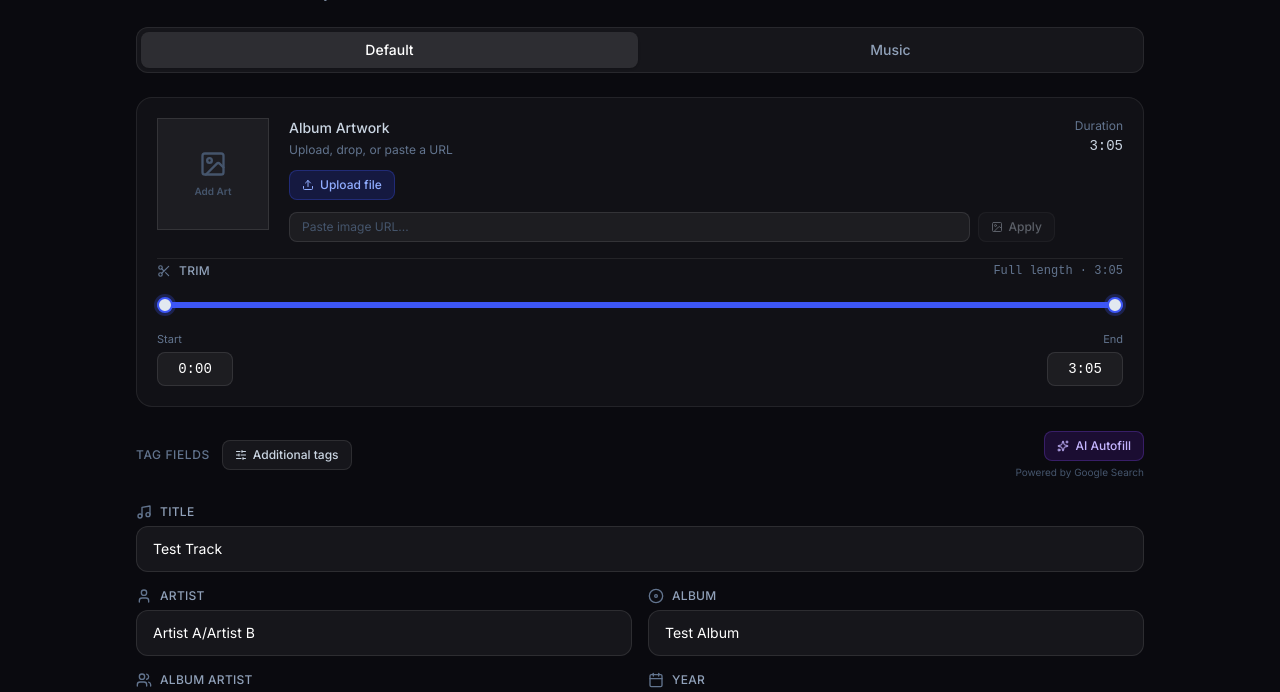
Test case: TagEditor rendering › replaces only the matching artist when adding a mapping for a multi-artist value
Click the button "music".
click(890, 50)  # box [642,32,1139,68]
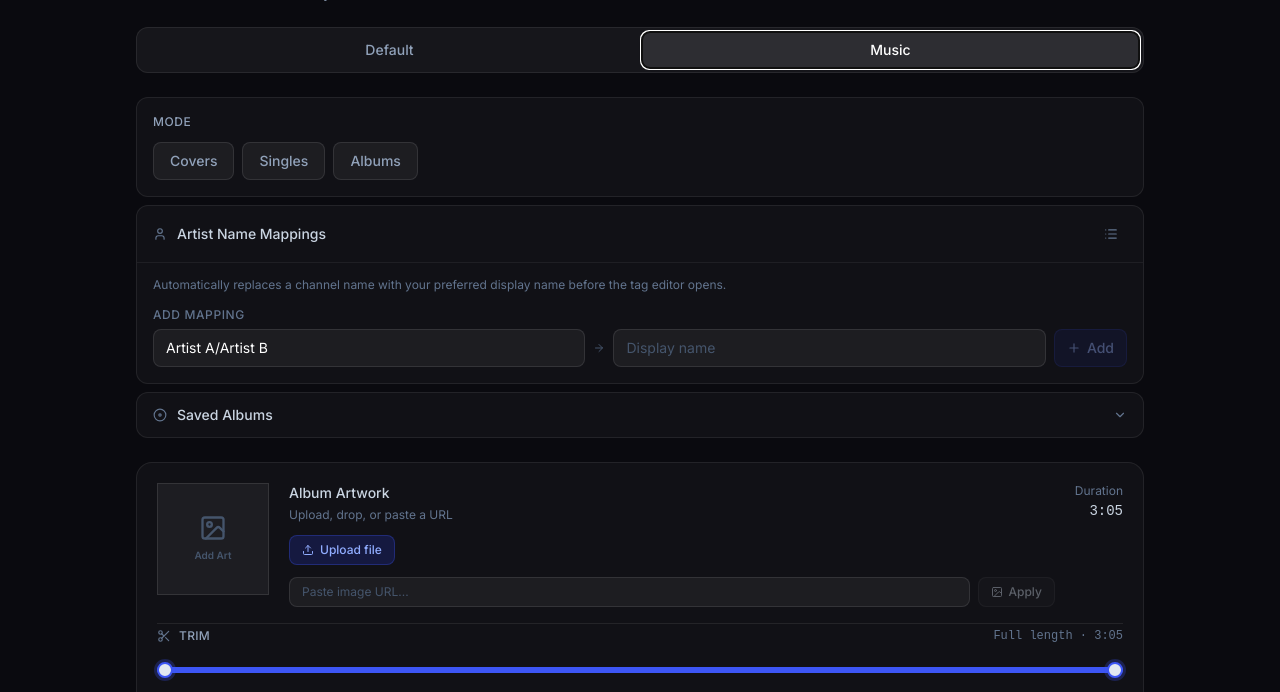
Set in one change: clearing first would let the prefill effect refill the original artist.
Replace the text in the field with placeholder "Channel name (exact)" with "Artist B" at (369,348), box [153,328,585,366]
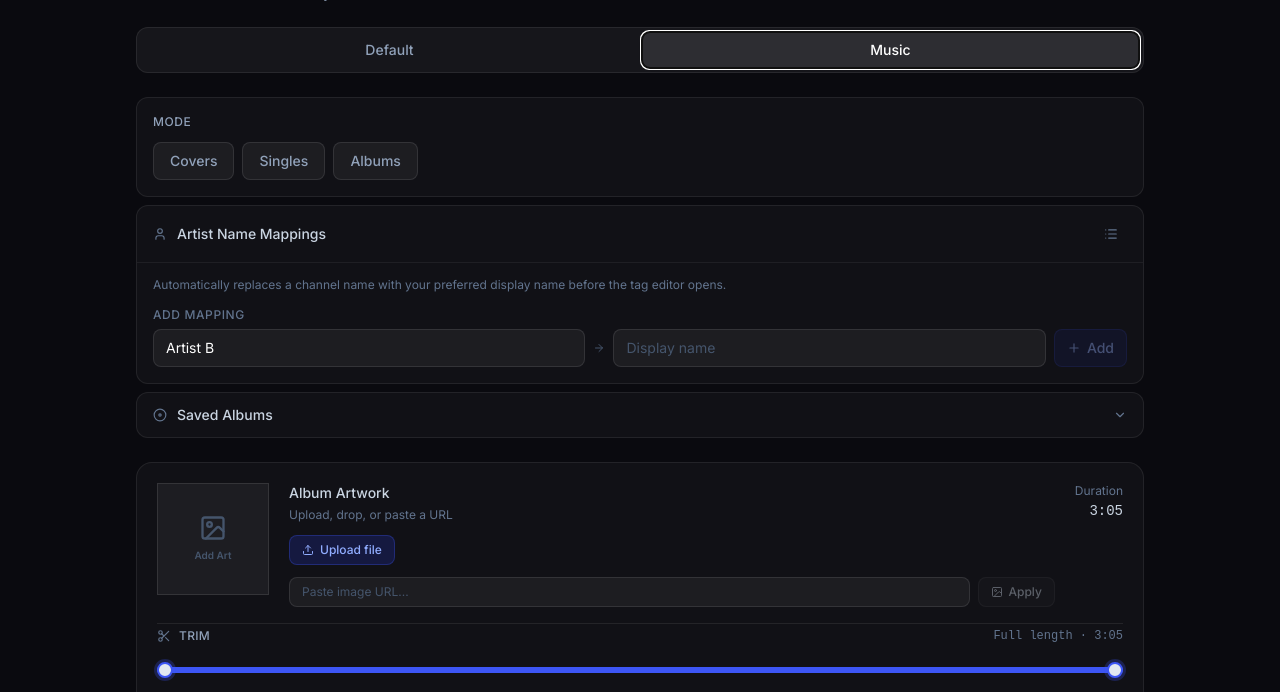
Type "Mapped B" into the field with placeholder "Display name".
click(830, 348); type("Mapped B")  # box [613,328,1046,366]
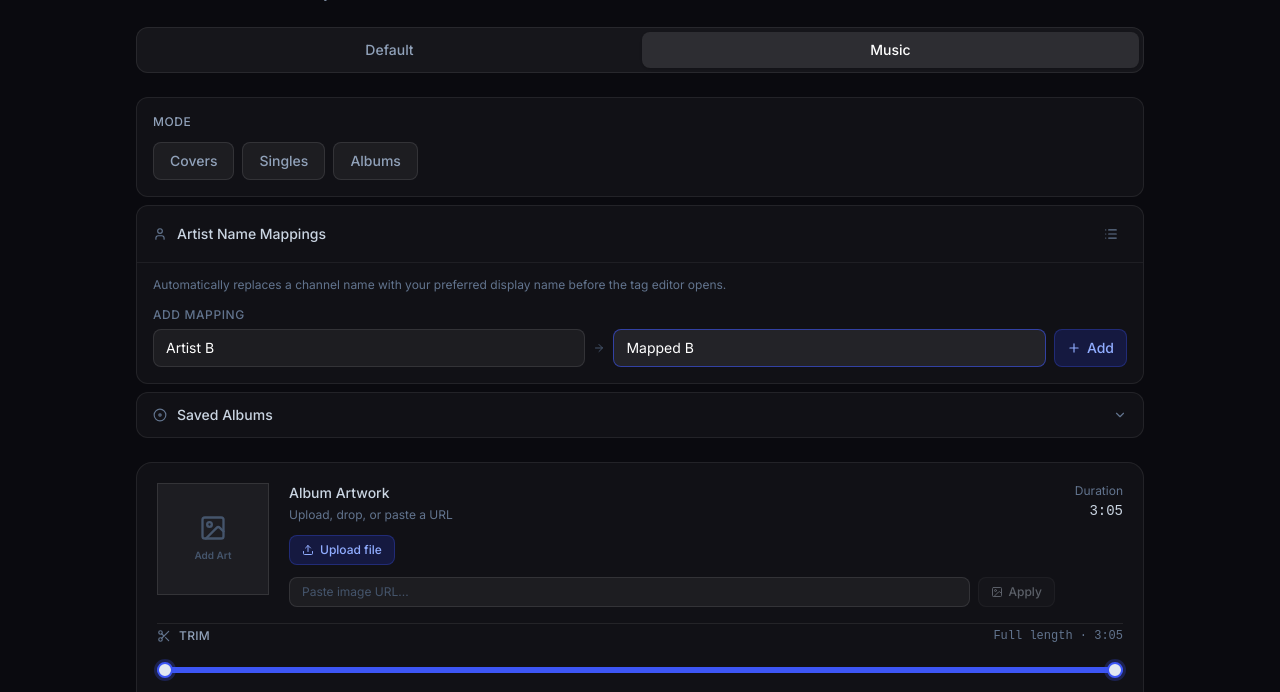
Click the button "Add".
click(1090, 348)  # box [1054,328,1127,366]
(page scrolled)
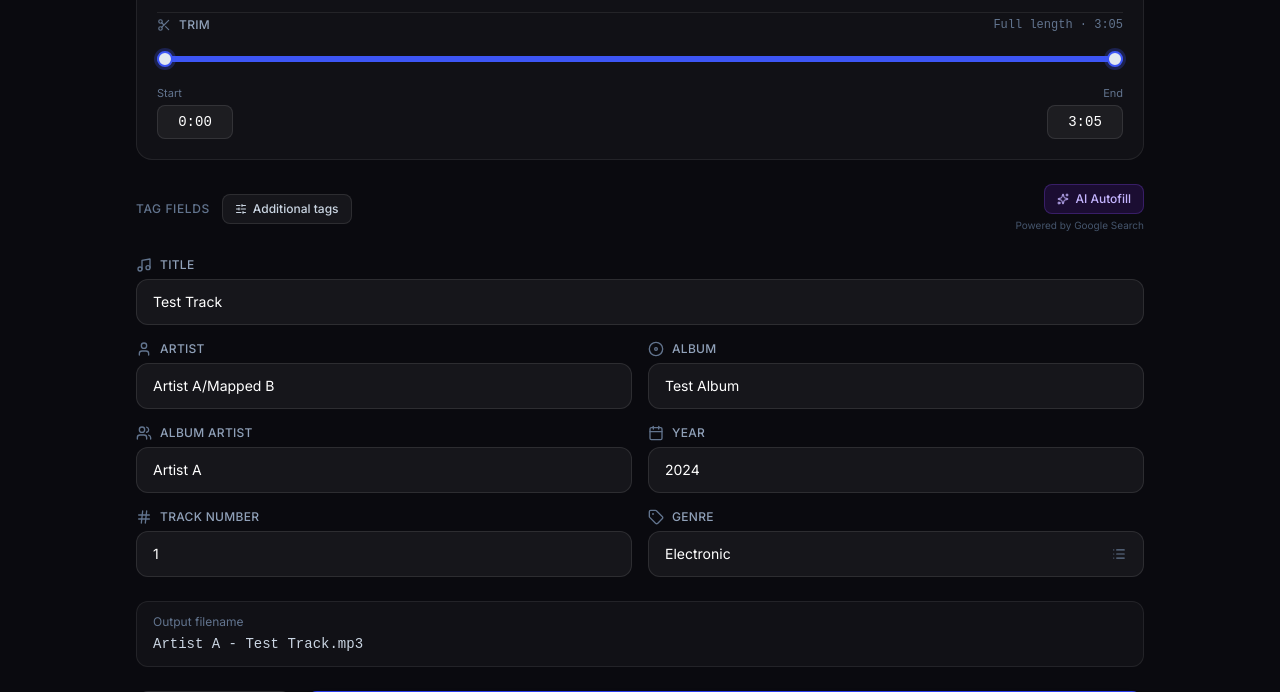
Expected: the field with placeholder "Album artist name" holds "Artist A", [136,447,632,493]
Expected: the field with placeholder "Artist name" holds "Artist A/Mapped B", [136,363,632,409]
